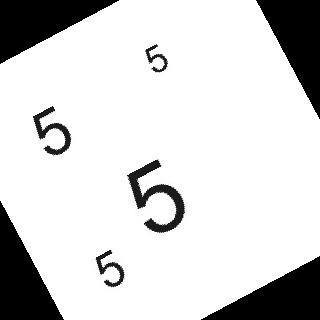five: (118, 159, 192, 233), (26, 104, 78, 156), (90, 248, 130, 288), (141, 43, 171, 73)
